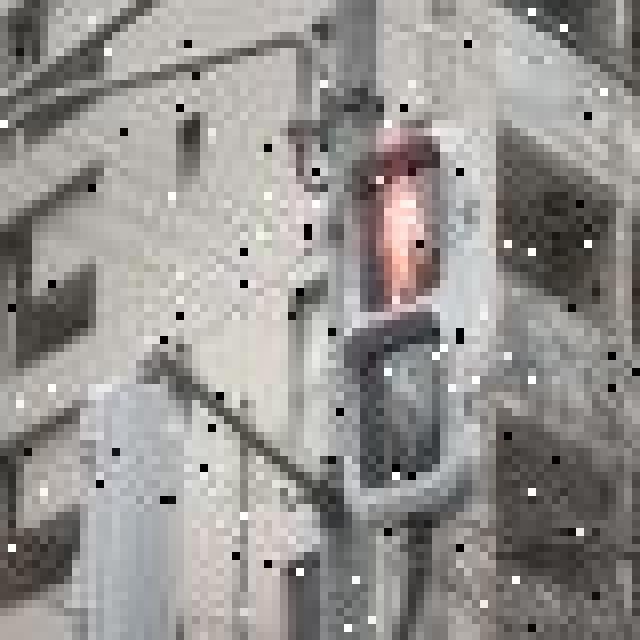redlight: (318, 146, 486, 513)
